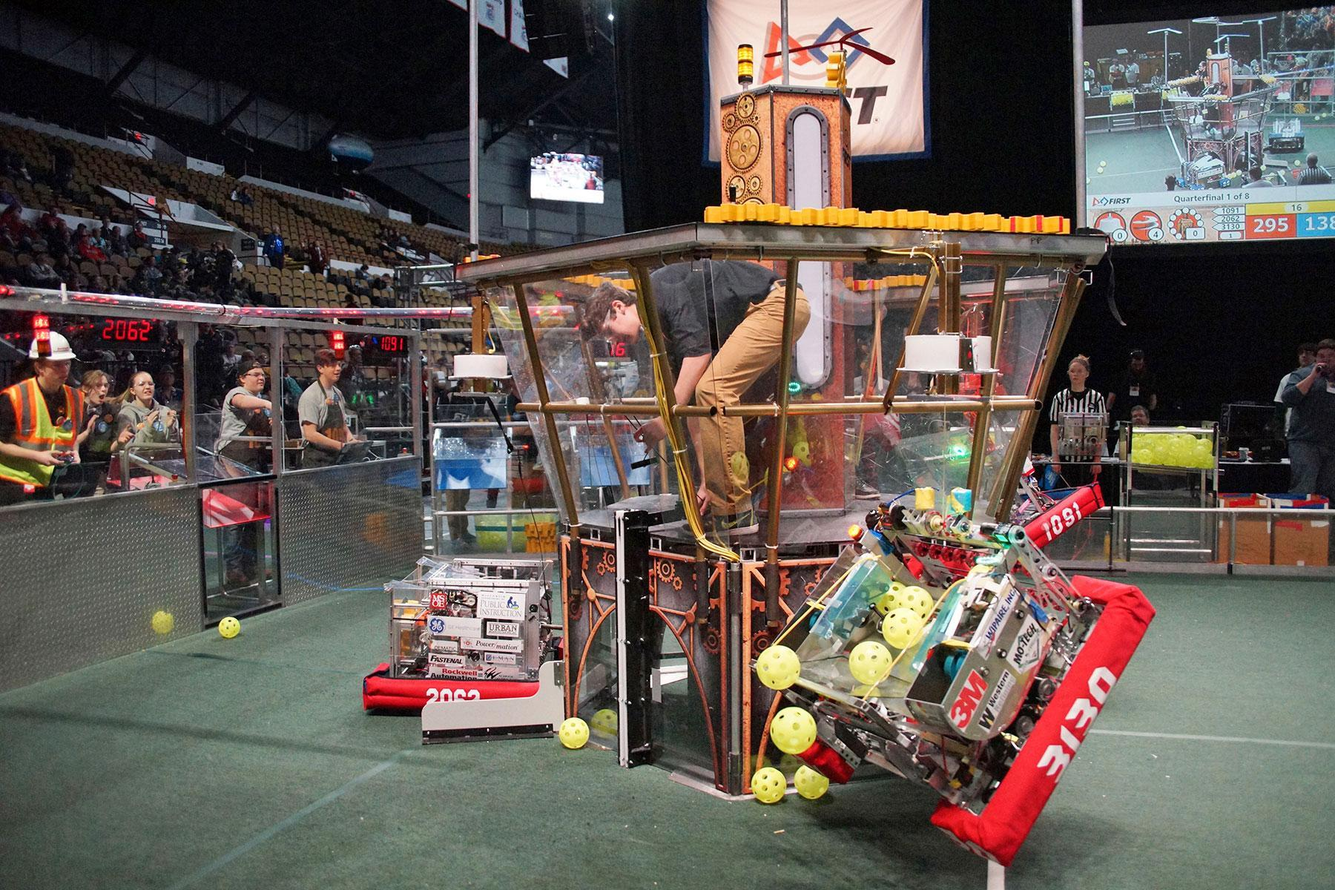robot: (763, 499, 1161, 870), (361, 419, 564, 728), (937, 398, 1110, 560)
